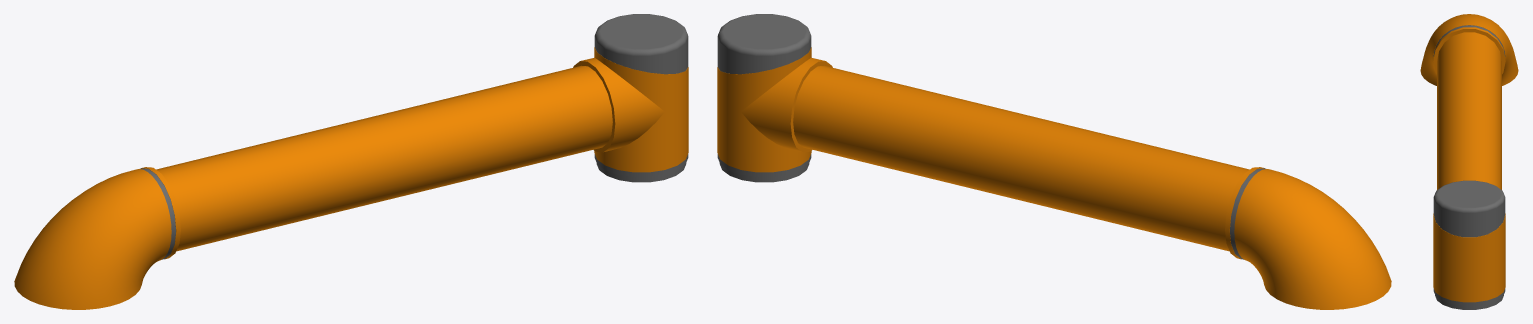
The picture shows the model from 3 angles, left to right: view 1: azimuth 30°, elevation 25°; view 2: azimuth 150°, elevation 25°; view 3: azimuth 270°, elevation 25°; orthographic projection. The views are drawn at different scales.
Visible parts, largest first — view 1: FBXASC195FBXASC135FBXASC195FBXASC144FBXASC194FBXASC179FBXASC; view 2: FBXASC195FBXASC135FBXASC195FBXASC144FBXASC194FBXASC179FBXASC; view 3: FBXASC195FBXASC135FBXASC195FBXASC144FBXASC194FBXASC179FBXASC.
Part boxes in pixels (x1,y1,x2,y2): FBXASC195FBXASC135FBXASC195FBXASC144FBXASC194FBXASC179FBXASC: [14, 14, 688, 309]; FBXASC195FBXASC135FBXASC195FBXASC144FBXASC194FBXASC179FBXASC: [717, 14, 1391, 309]; FBXASC195FBXASC135FBXASC195FBXASC144FBXASC194FBXASC179FBXASC: [1420, 14, 1518, 309].
Bounding box in the file's own units: 0.7023 × 0.118 × 0.1345.
